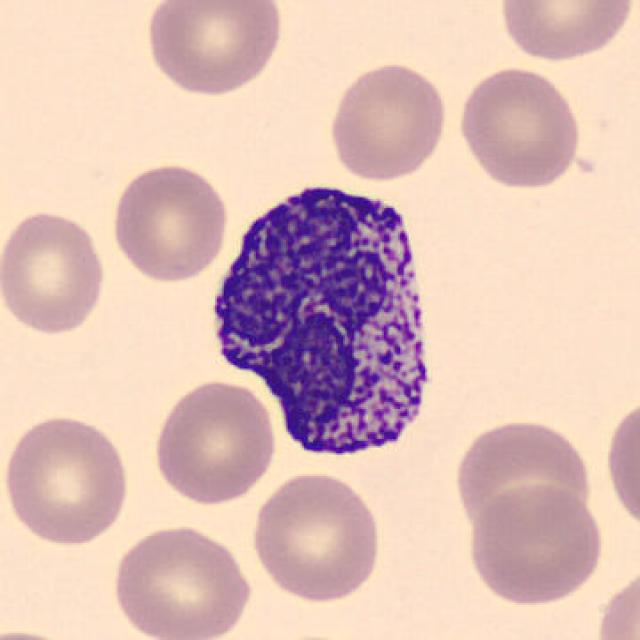Basophil: (198, 164, 452, 474)
RBC: (247, 467, 386, 605), (460, 480, 608, 608), (0, 408, 133, 548), (450, 414, 596, 538), (107, 520, 256, 640), (149, 377, 281, 508), (453, 64, 585, 192), (324, 58, 452, 185), (107, 158, 231, 286), (0, 206, 110, 338), (140, 0, 286, 99), (496, 0, 638, 65), (602, 391, 640, 541), (593, 560, 638, 640), (1, 626, 90, 640), (262, 631, 372, 640)
